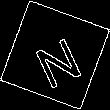N_NW: (26, 23, 84, 87)
